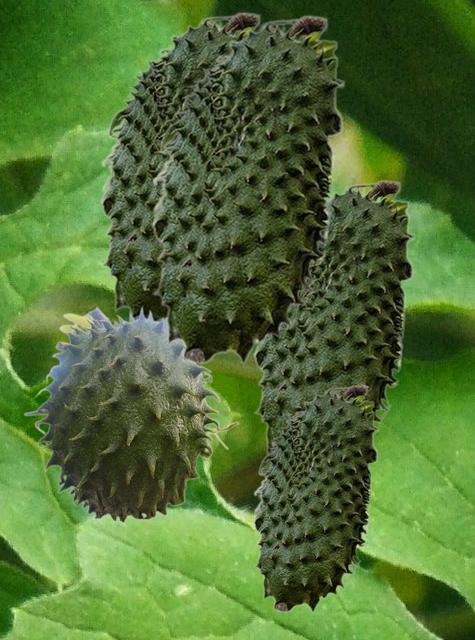guyabano: (150, 14, 344, 364), (99, 11, 262, 320), (23, 304, 239, 523), (252, 179, 414, 454), (252, 384, 378, 612)
